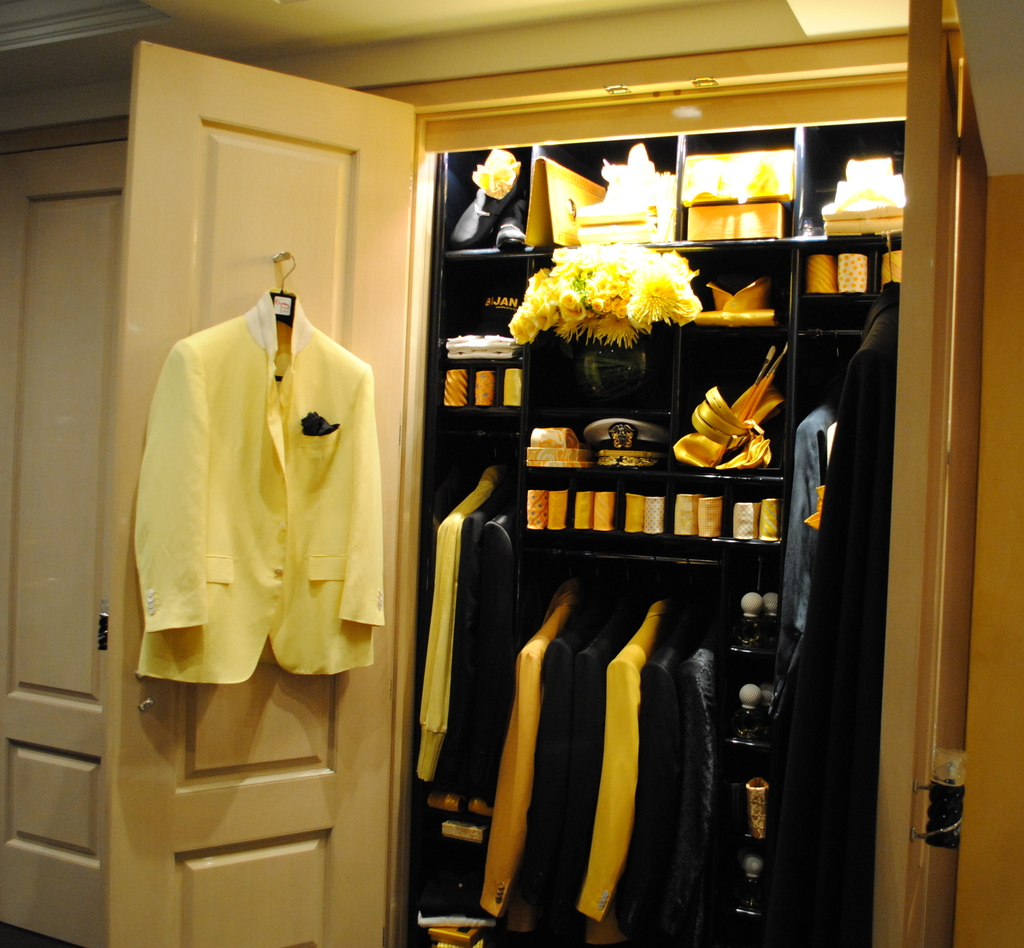cabinet door: (138, 88, 382, 948), (909, 59, 932, 948)
door: (6, 171, 121, 936)
handle: (914, 776, 962, 848), (134, 687, 162, 731)
